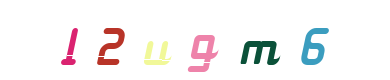1: (57, 0, 137, 80)
2: (120, 0, 200, 80)
6: (269, 0, 349, 80)
G: (154, 0, 234, 80)
M: (220, 0, 300, 80)
U: (149, 0, 229, 80)
